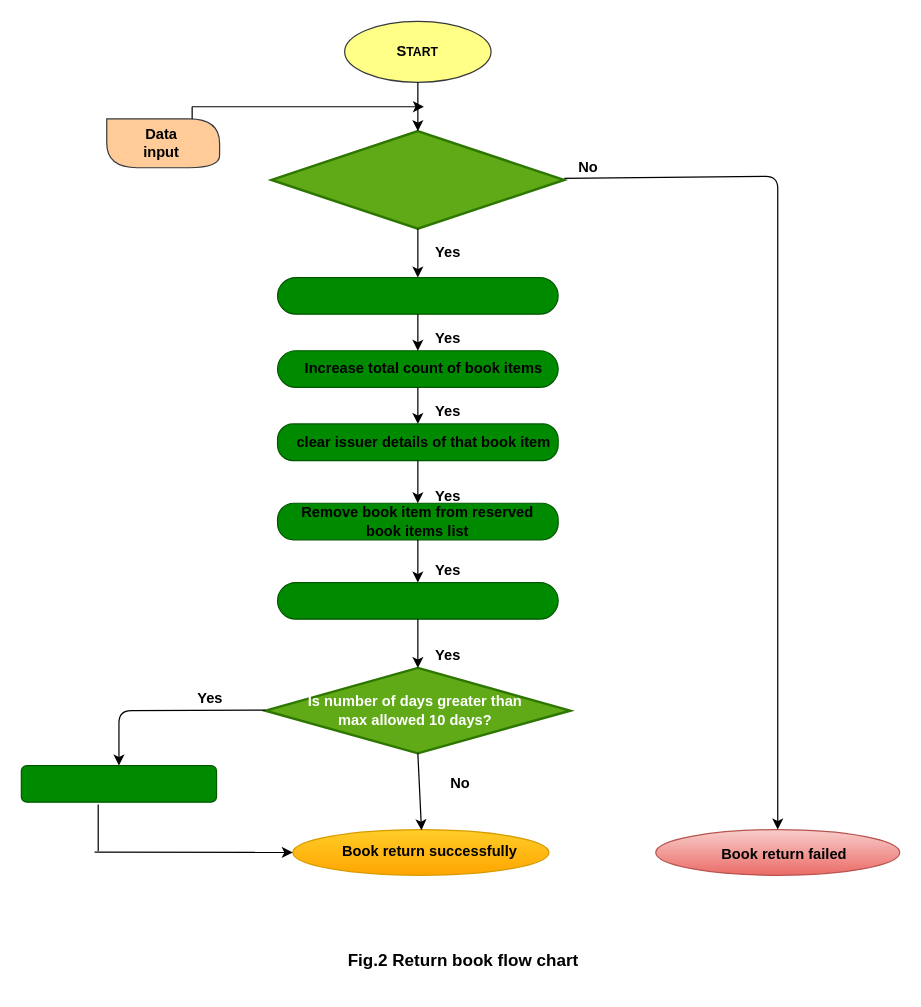
Some shapes in this 921 by 1007 pixel diagram are drawn without their labels. The centre of each missing label's shape, as x and y in pixels:
Add book item back to catalog: [417,295]
Calculate fine: [118,783]
Is returned book item currently issued by the member?: [417,179]
Remove book item from members issued book list: [417,600]
